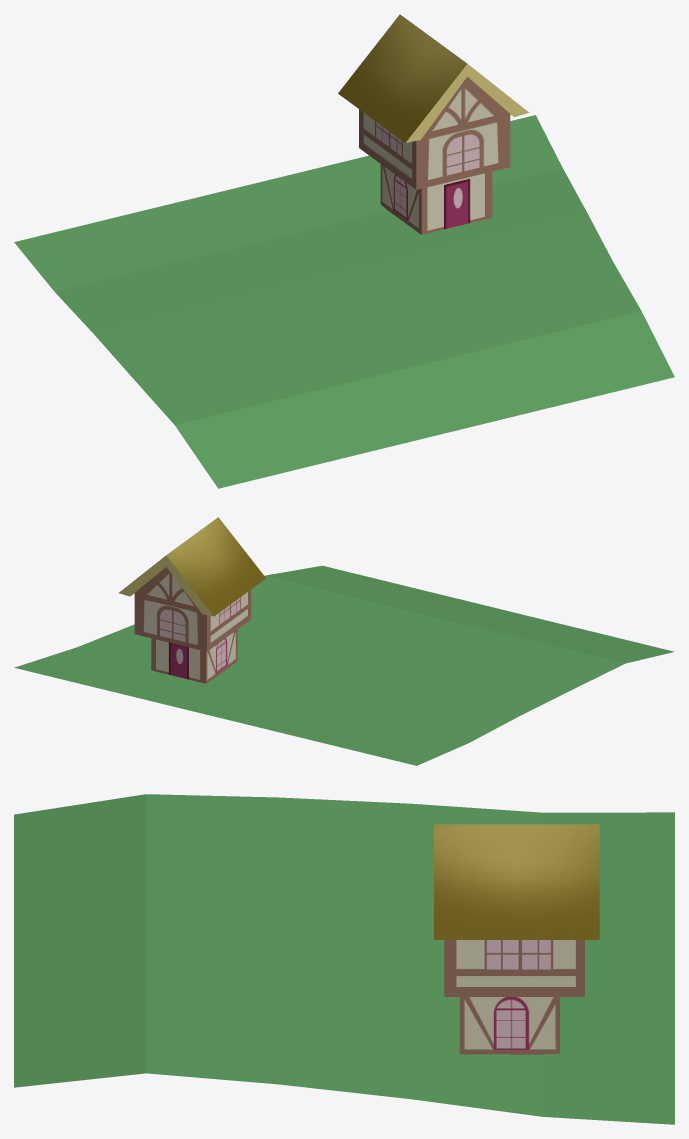
File: farm.gltf
The picture shows the model from 3 angles, top to bottom: view 1: azimuth 30°, elevation 25°; view 2: azimuth 150°, elevation 25°; view 3: azimuth 270°, elevation 25°; orthographic projection. The views are drawn at different scales.
Parts seen in each view (by area): view 1: Plane; view 2: Plane; view 3: Plane.
Boxes of the visible parts, <box> form: Plane: <box>14,14,674,488</box>; Plane: <box>14,517,674,765</box>; Plane: <box>14,794,674,1124</box>.
Bounding box in the file's own units: 16.55 × 5.32 × 13.16.
2 materials, 1 textured.
